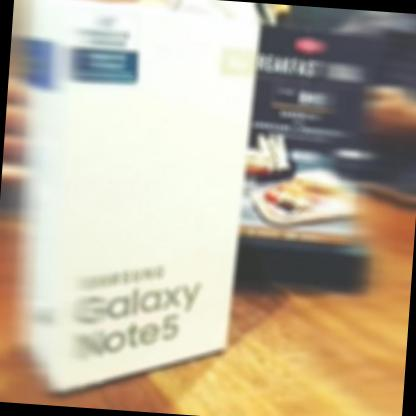box: (0, 0, 276, 404)
